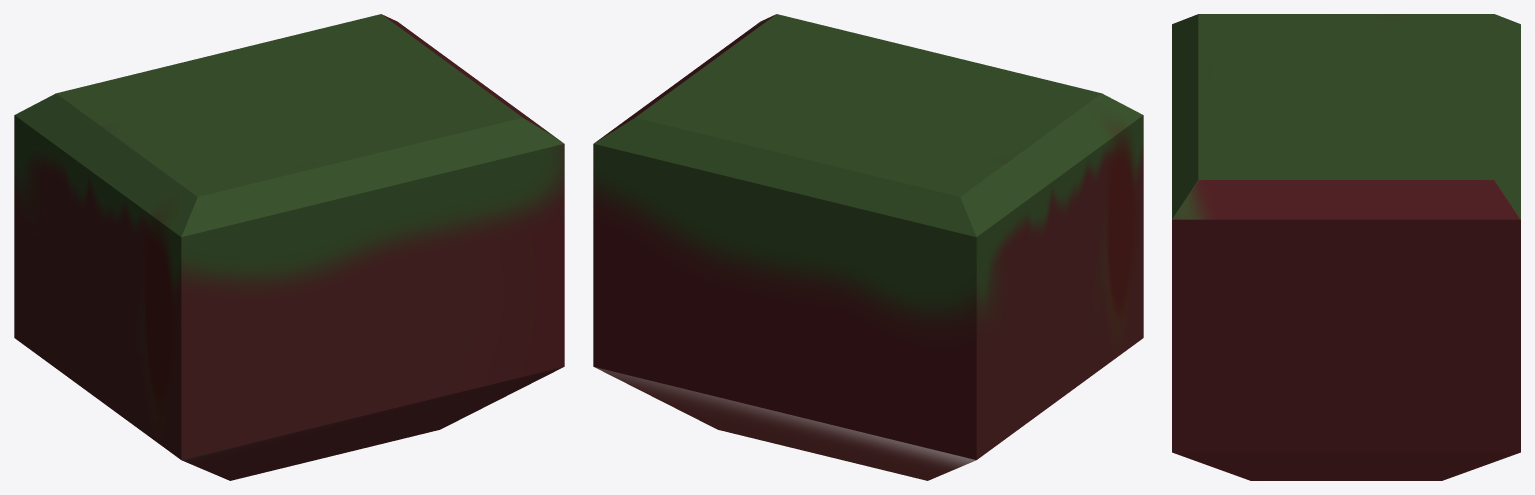
The model's file is Platform_small.obj.
3 renders of one model, left to right at view 1: azimuth 30°, elevation 25°; view 2: azimuth 150°, elevation 25°; view 3: azimuth 270°, elevation 25°, orthographic. The views are drawn at different scales.
Parts seen in each view (by area): view 1: Small; view 2: Small; view 3: Small.
Boxes of the visible parts, x1,y1,x2,y2 form: Small: (14, 14, 564, 480); Small: (593, 14, 1143, 480); Small: (1172, 14, 1520, 480).
Bounding box in the file's own units: 2.75 × 2.17 × 2.07.
